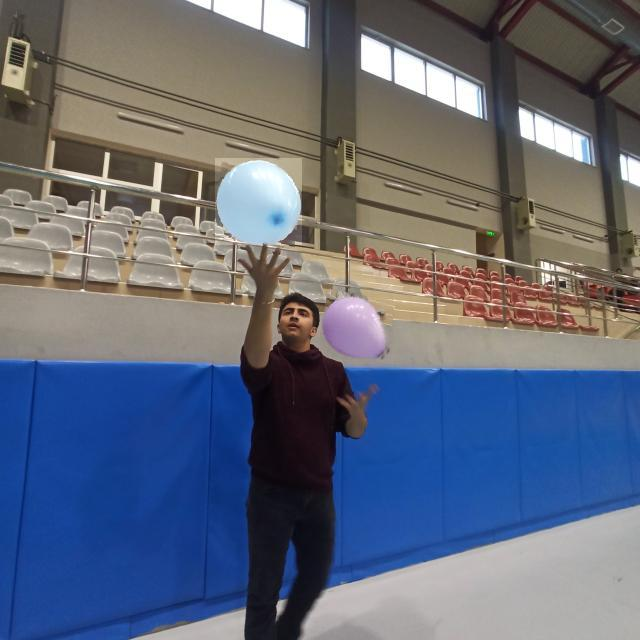balloon: (215, 158, 302, 245), (320, 292, 393, 359)
